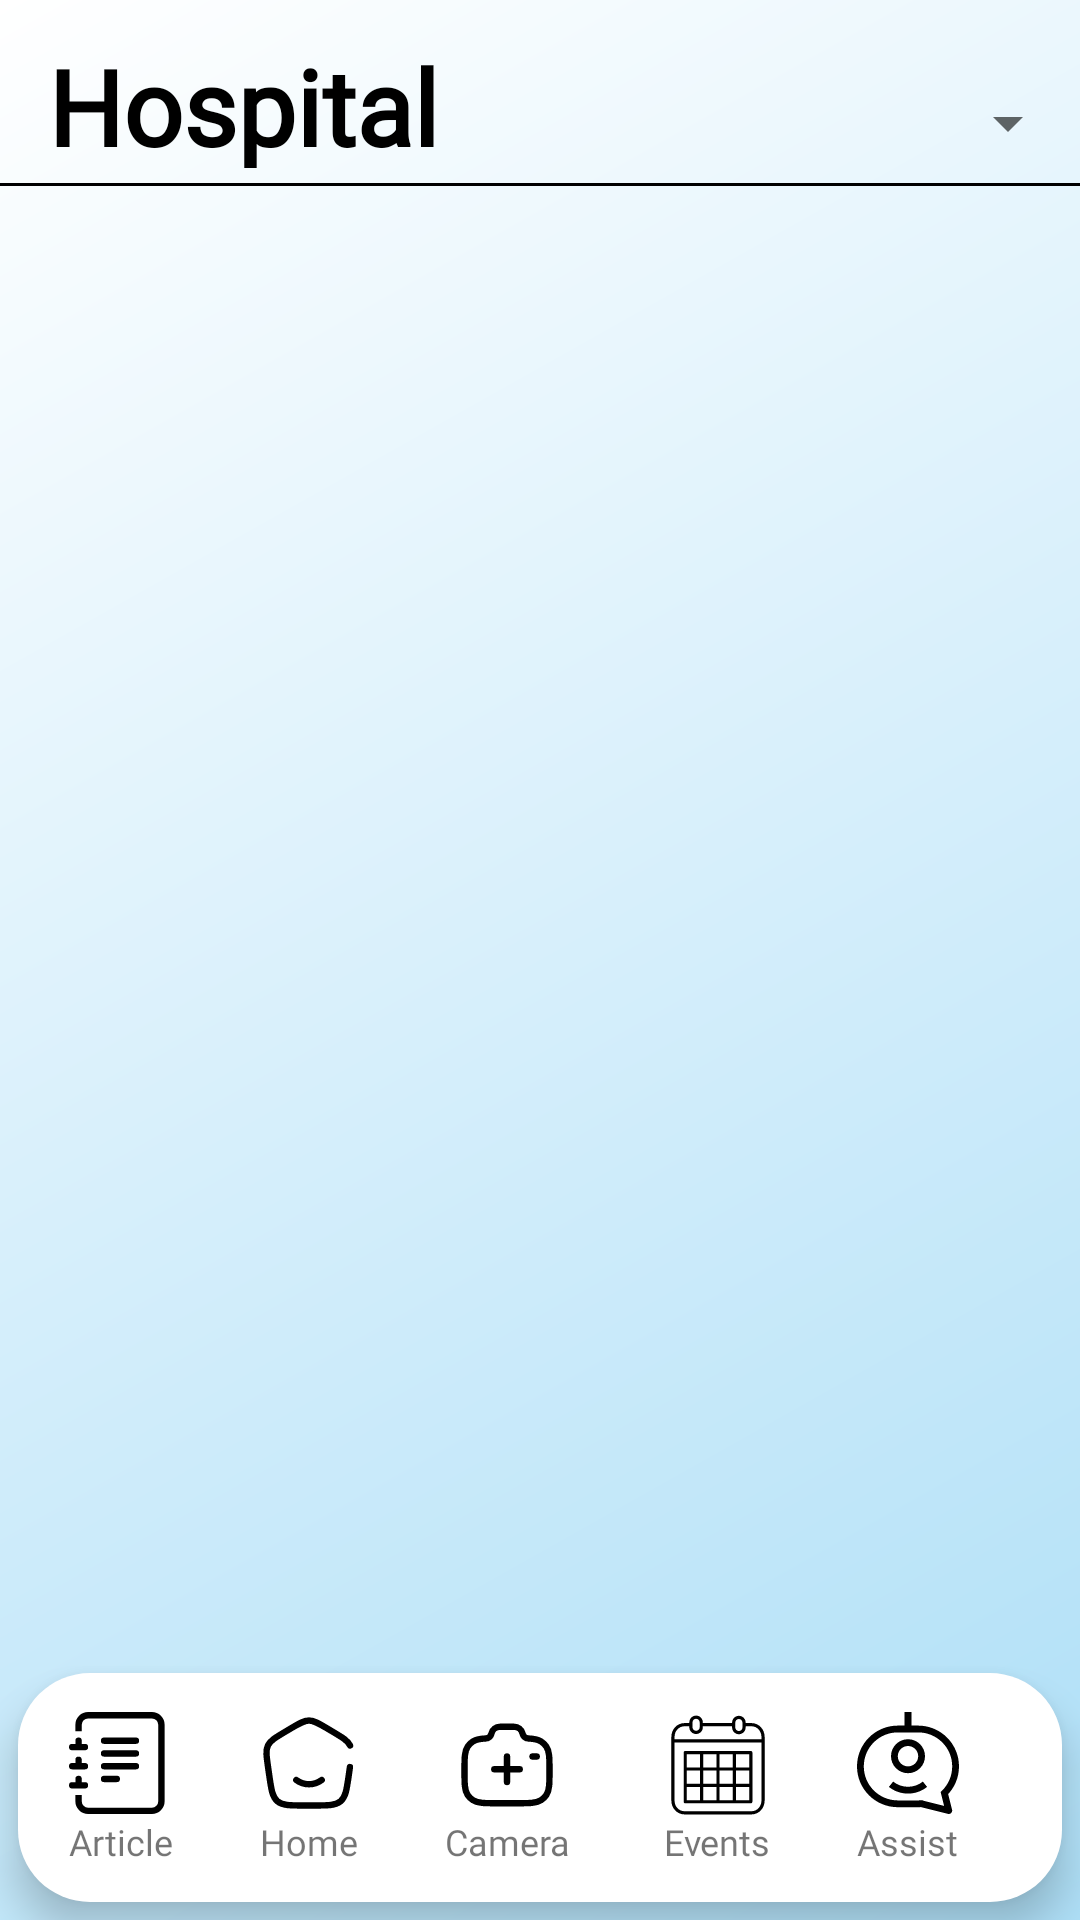

Where to tap for icons on this 1080w x 1920h app screen, as [x,y]:
chatbot: [908,1763]
